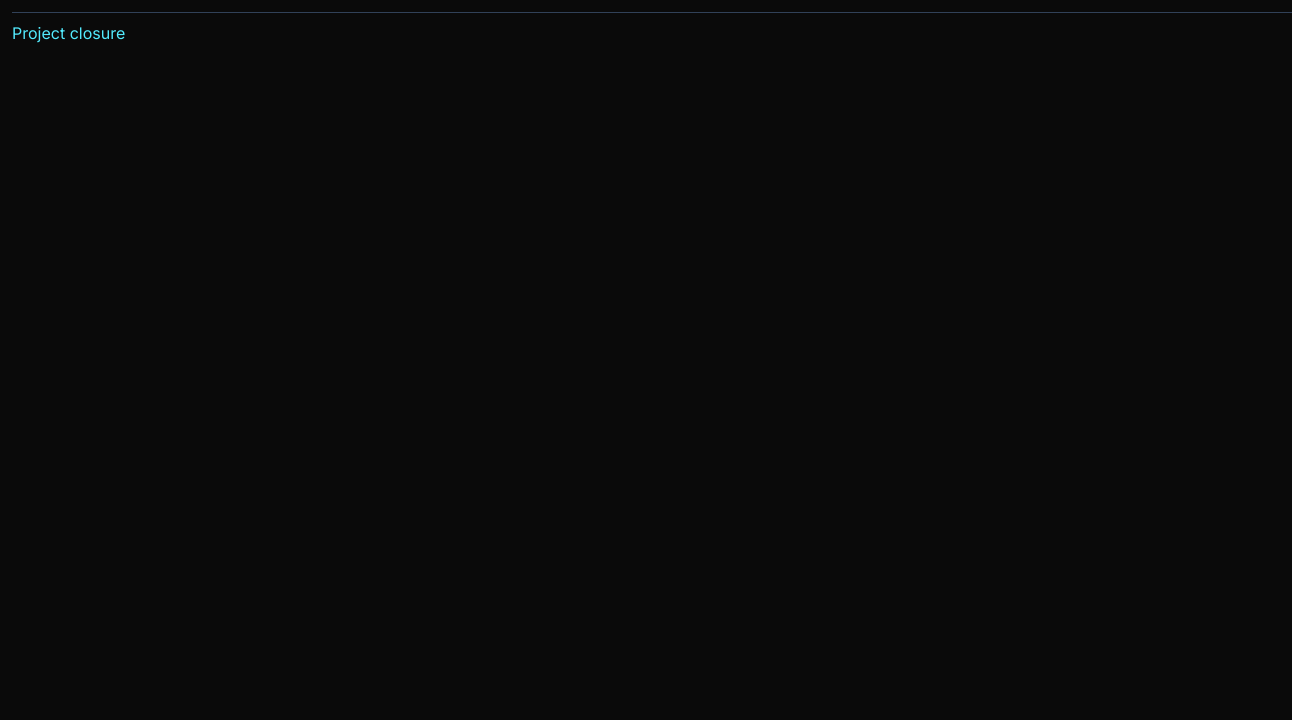
Test case: distinguishes a completed governed workflow from demonstrated effectiveness
The width and height of the screenshot is (1292, 720).
Click the button "Project closure": {"x": 69, "y": 33} [12, 21, 125, 45]
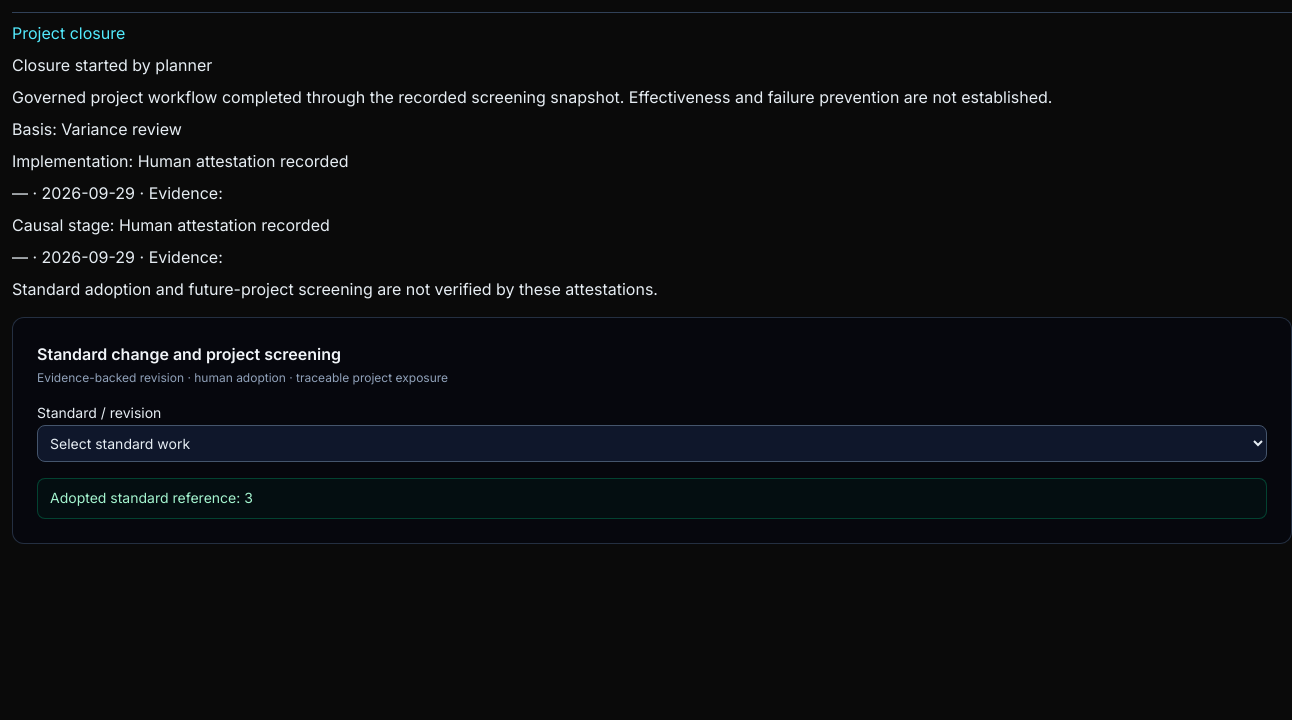
expect the text "Governed project workflow completed" shows "Effectiveness and failure prevention are not established": met, box [12, 87, 1052, 107]
